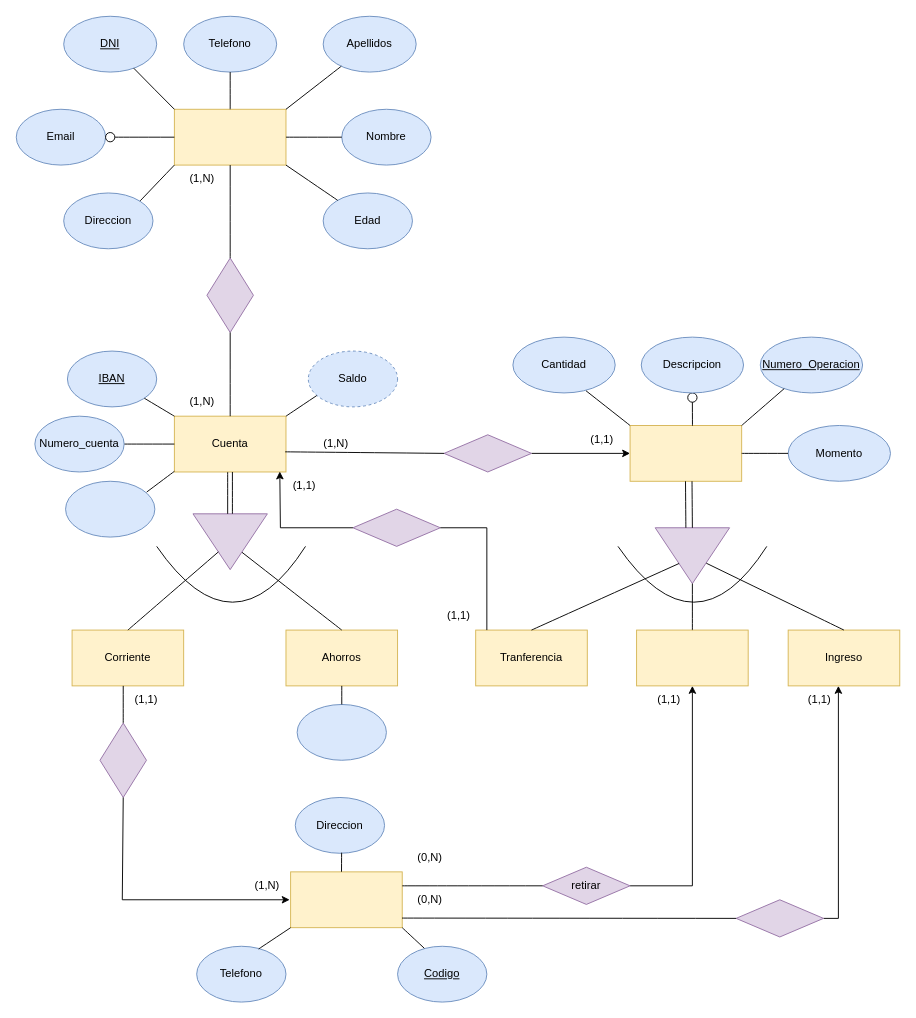
The diagram is 916 pixels wide and 1018 high, and some of its shapes have lost their labels. The shapes that lost their labels are listed below. From the top down, each one's centre as x and y in pixels, then its label:
point (229, 136): Cliente
point (229, 294): posee
point (487, 453): se realizan
point (685, 453): Operacion
point (110, 508): Fecha_Creacion
point (396, 527): transpasar
point (692, 657): Retirada
point (341, 732): Interés
point (122, 759): ligada
point (346, 899): Oficina
point (779, 918): ingresar
